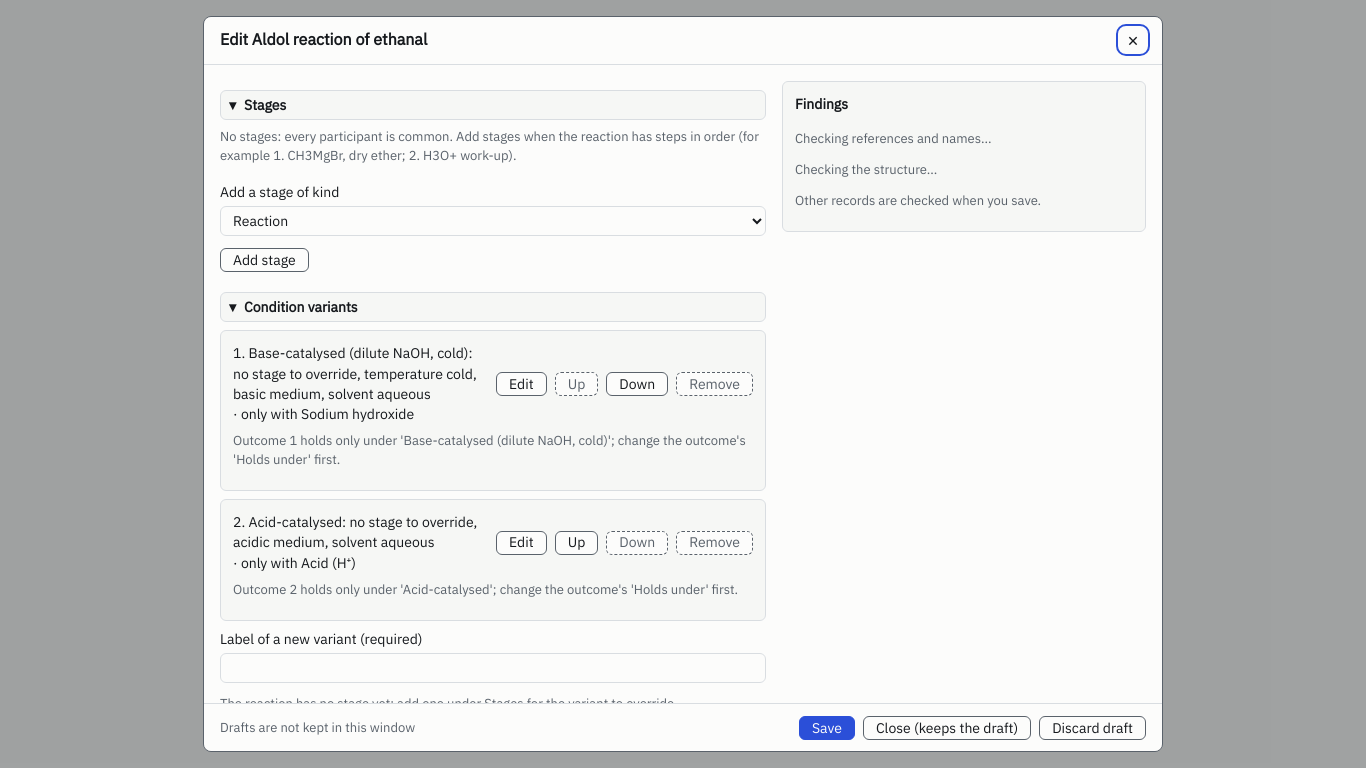
it: the solvent character of a condition variant › a stored value is shown with its words checked
(page scrolled)
Click the button with aria-label "Edit variant 1".
click(521, 384)  # box x1=496 y1=372 x2=547 y2=396
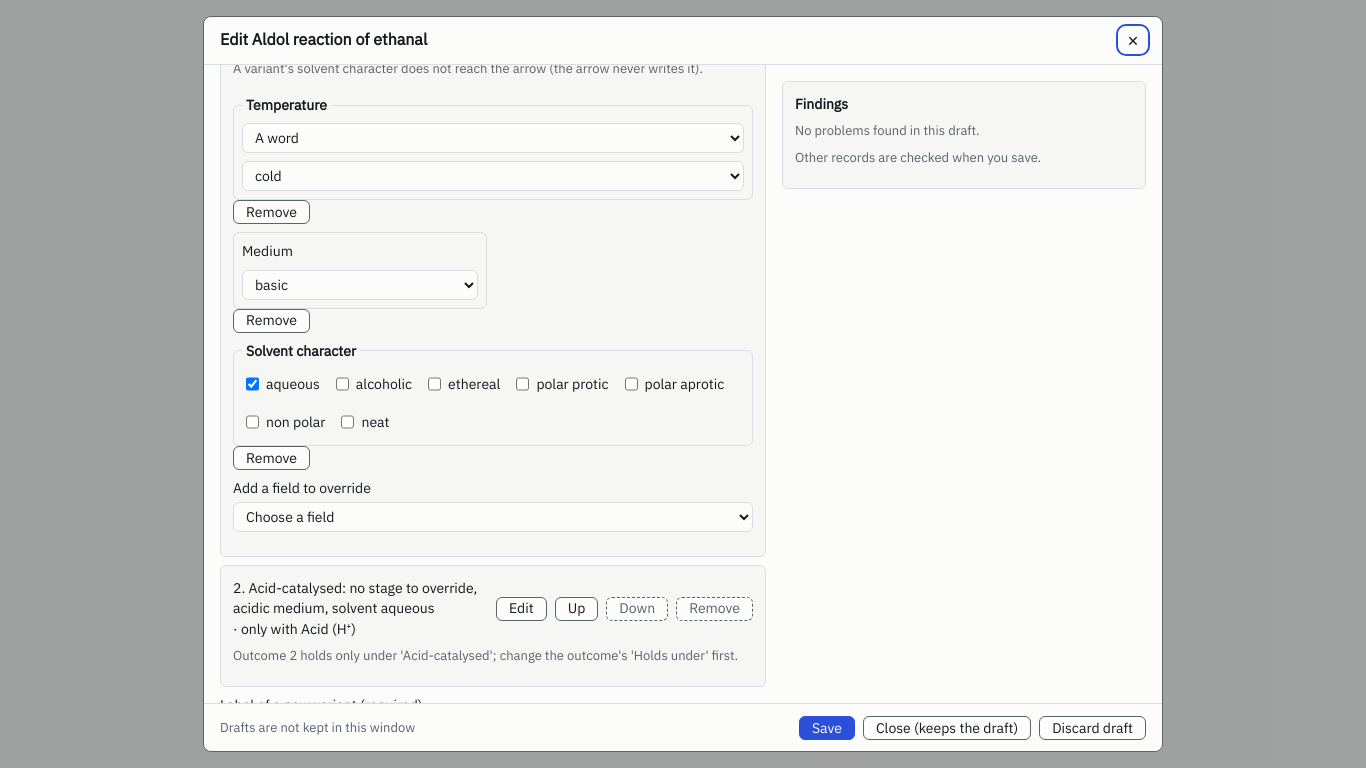
Expected: the checkbox named "Solvent character: aqueous (variant 1)" is checked, x1=246 y1=372 x2=259 y2=396
